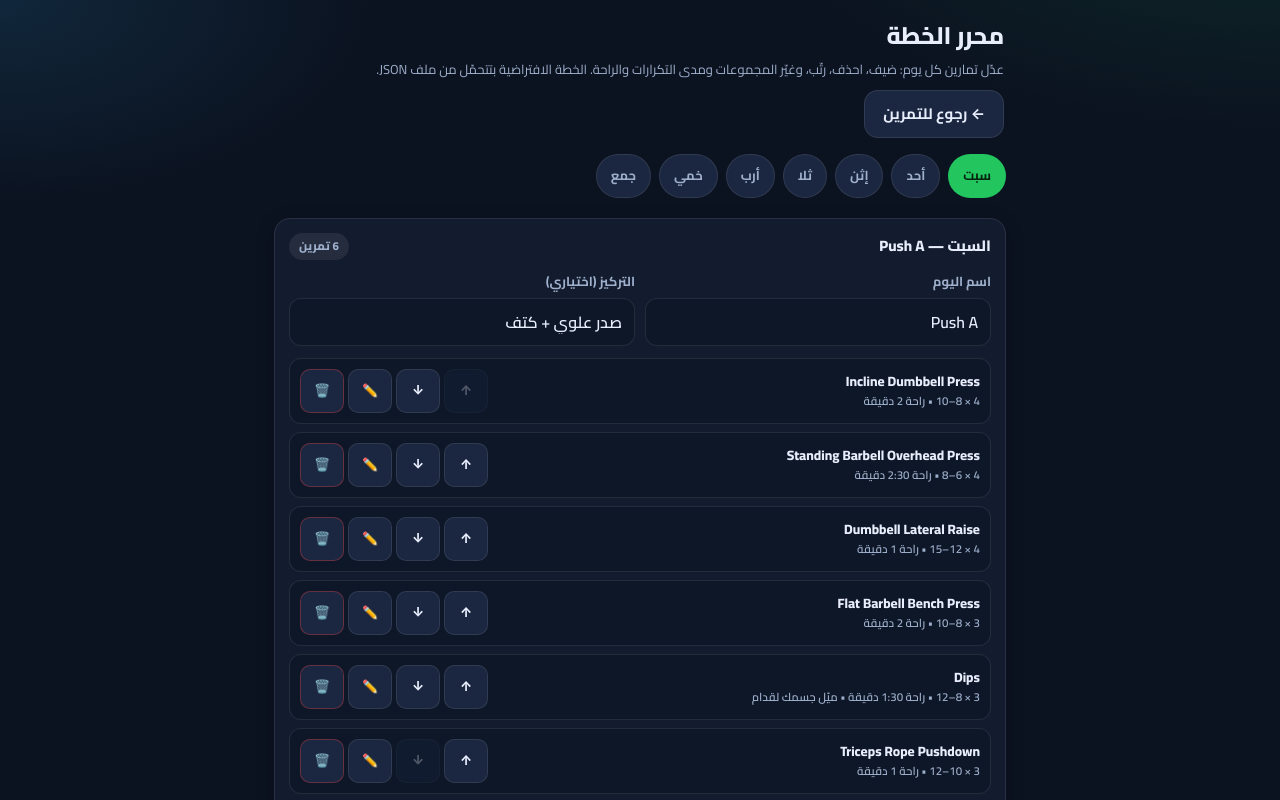
Test case: PlanEditorPage › restore defaults reloads the plan from the bundled JSON
Click the button "🗑️" in the row of "Incline Dumbbell Press". click: (322, 391)
box: [300,369,344,413]
(page scrolled)
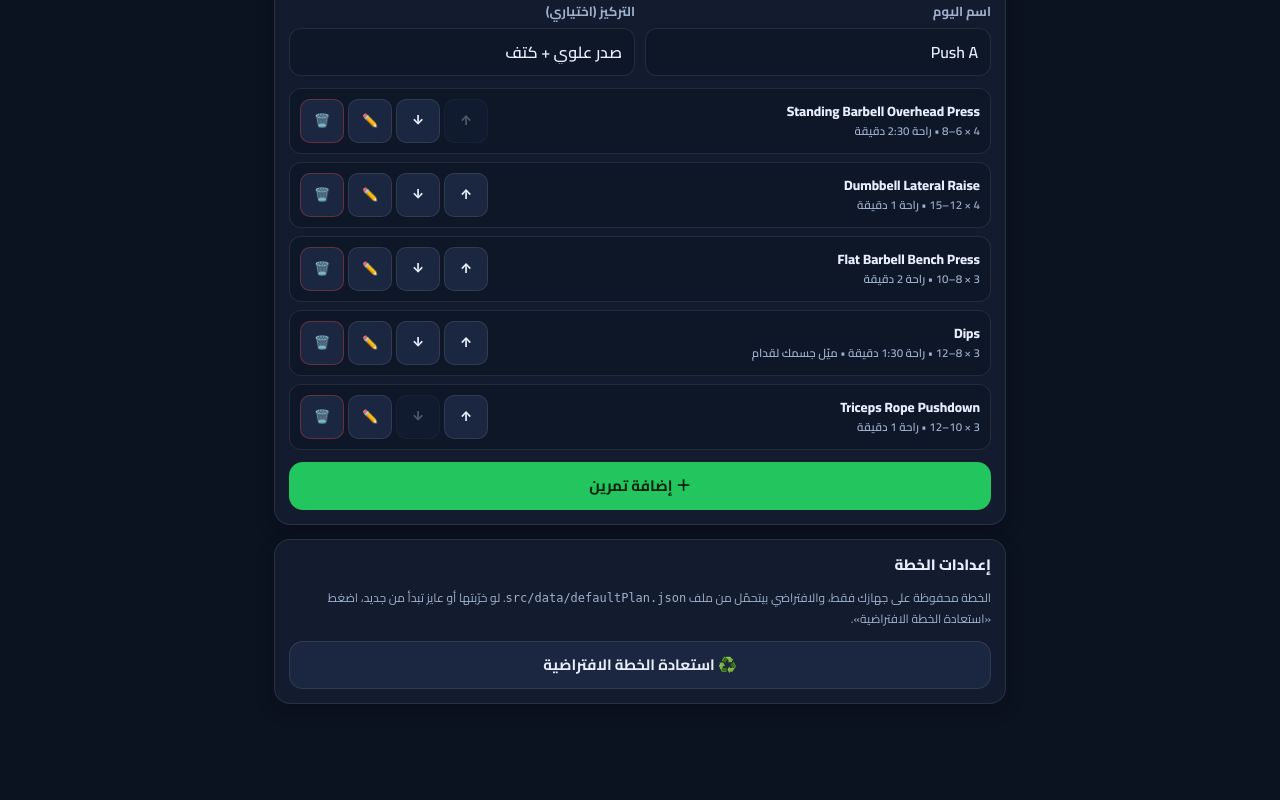
Expected: the text "Incline Dumbbell Press" is gone
Click the button "♻️ استعادة الخطة الافتراضية". click: (640, 665)
box: [289,641,991,689]
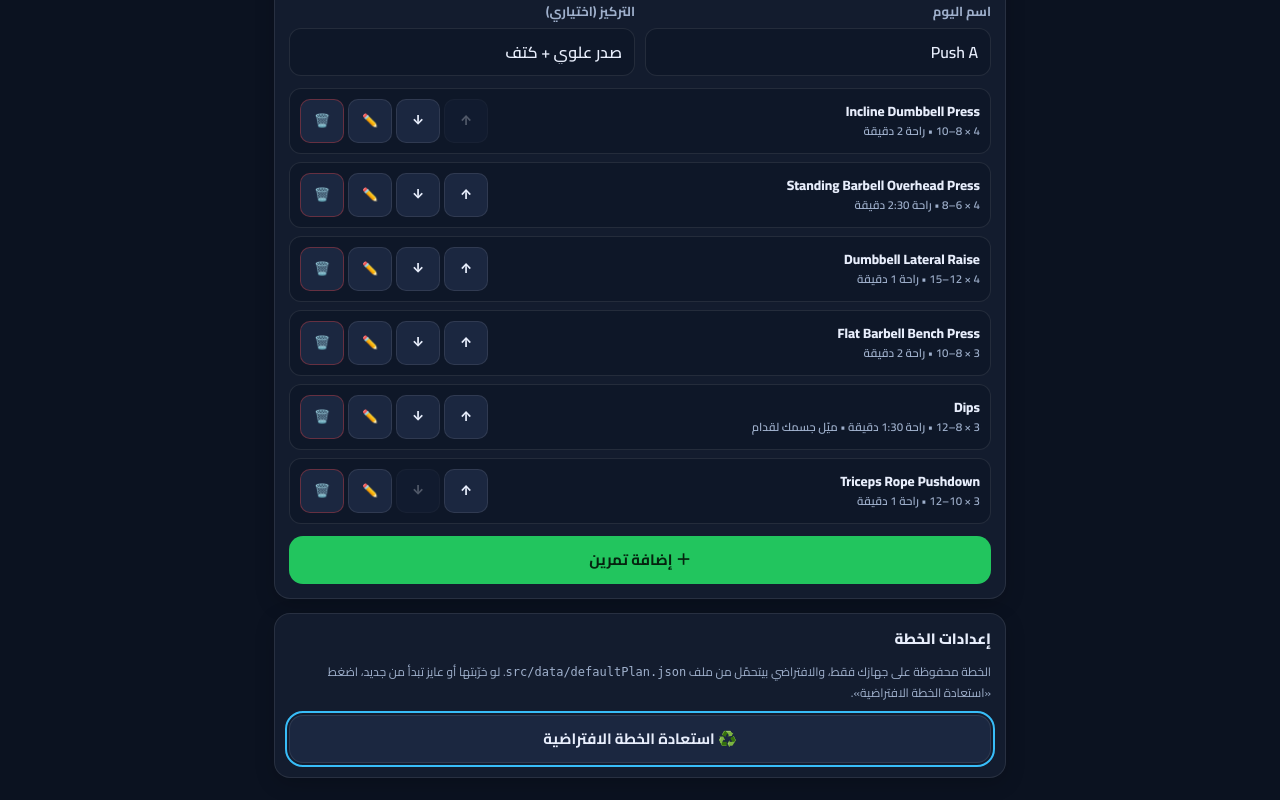
Expected: the text "Incline Dumbbell Press" is shown, [846,98,980,124]
